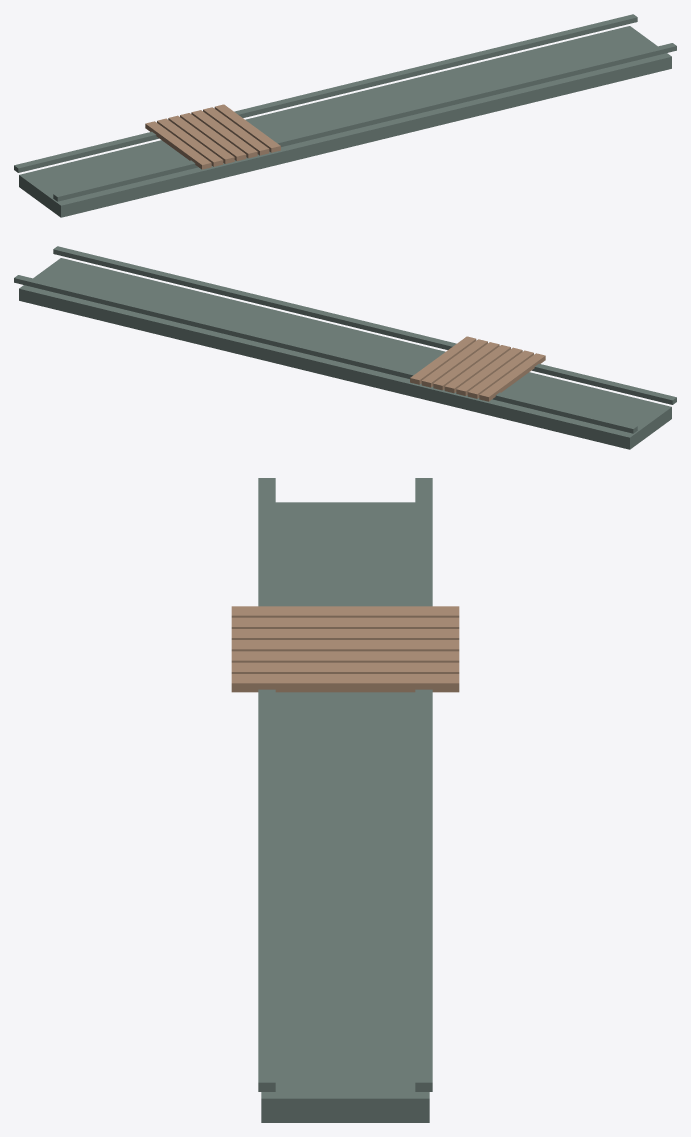
File: xingfuli-reflecting-pool-hardscape-massing.glb
3 renders of one model, top to bottom at view 1: azimuth 30°, elevation 25°; view 2: azimuth 150°, elevation 25°; view 3: azimuth 270°, elevation 25°, orthographic. The views are drawn at different scales.
Visible parts, largest first — view 1: xingfuli-reflecting-pool-hardscape-dark-massing, xingfuli-reflecting-pool-hardscape-wood-massing; view 2: xingfuli-reflecting-pool-hardscape-dark-massing, xingfuli-reflecting-pool-hardscape-wood-massing; view 3: xingfuli-reflecting-pool-hardscape-dark-massing, xingfuli-reflecting-pool-hardscape-wood-massing.
Part boxes in pixels (x1=…): xingfuli-reflecting-pool-hardscape-dark-massing: x1=14, y1=14, x2=676, y2=217; xingfuli-reflecting-pool-hardscape-wood-massing: x1=145, y1=104, x2=280, y2=169; xingfuli-reflecting-pool-hardscape-dark-massing: x1=14, y1=246, x2=676, y2=449; xingfuli-reflecting-pool-hardscape-wood-massing: x1=410, y1=336, x2=545, y2=401; xingfuli-reflecting-pool-hardscape-dark-massing: x1=258, y1=478, x2=432, y2=1122; xingfuli-reflecting-pool-hardscape-wood-massing: x1=231, y1=606, x2=459, y2=692.
Bounding box in the file's own units: 18.25 × 0.715 × 2.9.
